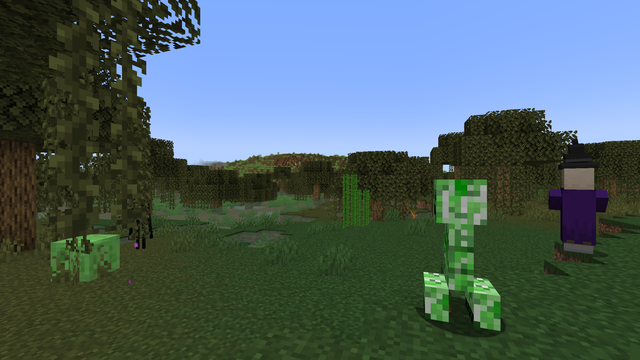creepers: (429, 172, 493, 331)
endermens: (131, 193, 150, 250)
slimes: (52, 232, 120, 284)
sorcieres: (553, 164, 602, 255)
